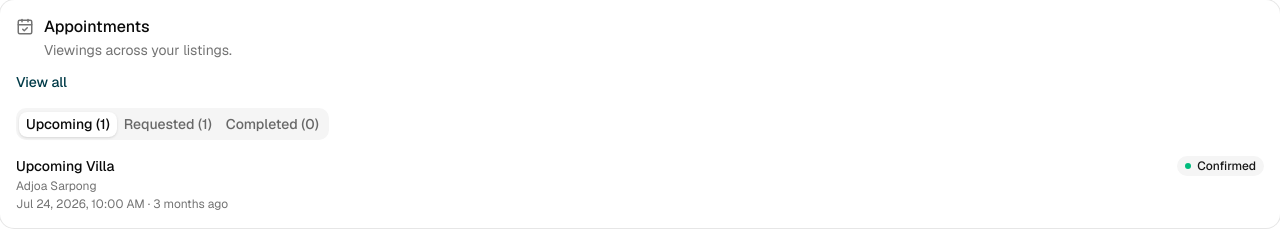
AppointmentOverview › shows upcoming appointments by default and switches tabs
The width and height of the screenshot is (1280, 246).
expect the text "Upcoming Villa" is shown: met, box [16, 157, 114, 175]
Step 1. Click the tab "Requested (1)" → point(168, 124), box [117, 112, 219, 136]
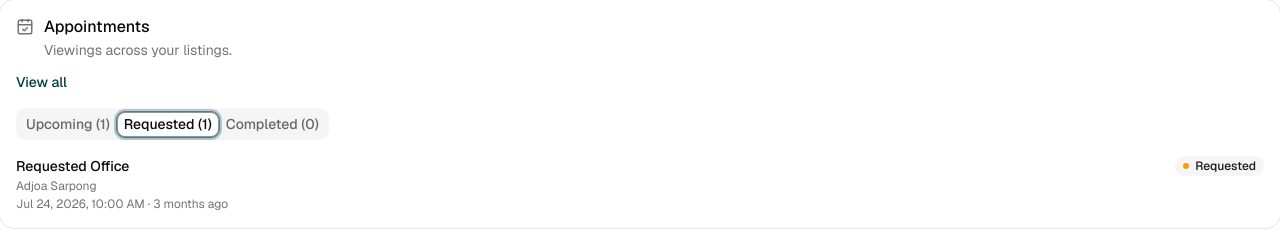
expect the text "Requested Office" is shown: met, box [16, 157, 130, 175]
